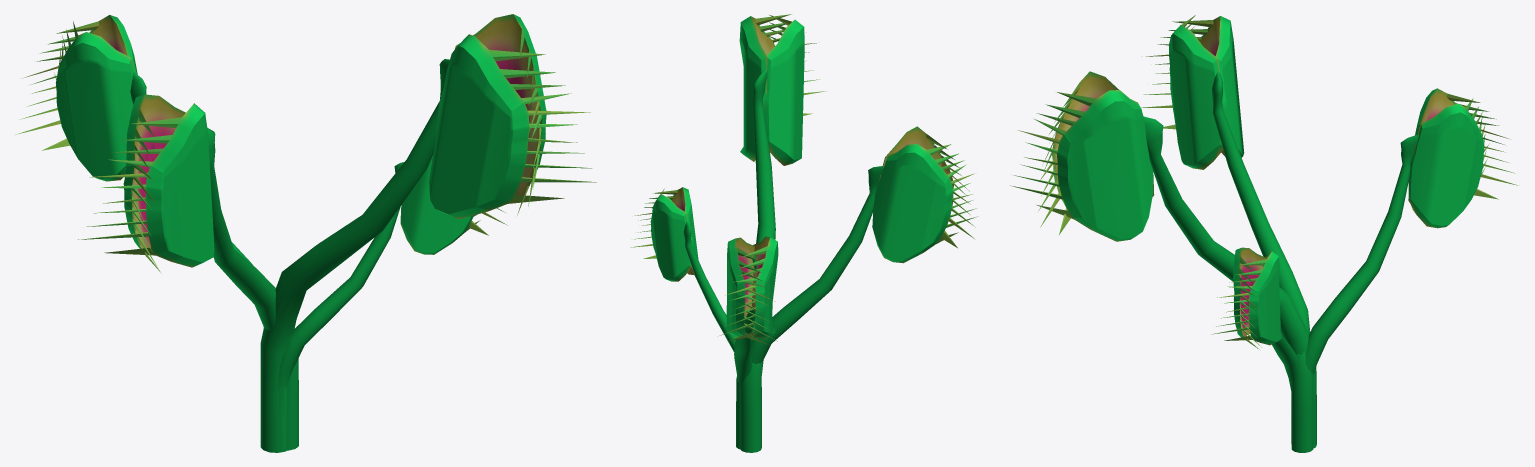
Rendered from herotrophic_tre.fbx.
3 views of the same model, side by side, from view 1: azimuth 30°, elevation 25°; view 2: azimuth 150°, elevation 25°; view 3: azimuth 270°, elevation 25° (orthographic). The views are drawn at different scales.
Visible parts, largest first — view 1: pCube7, pCube10, pCylinder4, pCube8, pCylinder5, pCube6, pCube9, pCylinder6, pCube12, pCube13; view 2: pCube9, pCube7, pCylinder4, pCylinder5, pCube6, pCube8, pCube13, pCube11, pCube10, pCylinder6, pCube12, pCylinder3; view 3: pCube6, pCube13, pCylinder5, pCube10, pCylinder4, pCylinder3, pCube11, pCube9, pCube7, pCube12, pCube8, pCylinder6.
Part boxes in pixels (x1=…): pCube7: x1=429, y1=34, x2=596, y2=219; pCube10: x1=78, y1=103, x2=214, y2=267; pCylinder4: x1=260, y1=59, x2=449, y2=452; pCube8: x1=54, y1=21, x2=134, y2=181; pCylinder5: x1=207, y1=128, x2=298, y2=450; pCube6: x1=455, y1=14, x2=546, y2=215; pCube9: x1=123, y1=94, x2=185, y2=272; pCylinder6: x1=278, y1=162, x2=404, y2=451; pCube12: x1=400, y1=155, x2=480, y2=254; pCube13: x1=15, y1=15, x2=137, y2=150; pCube9: x1=872, y1=144, x2=978, y2=263; pCube7: x1=763, y1=15, x2=804, y2=165; pCylinder4: x1=740, y1=70, x2=775, y2=452; pCylinder5: x1=736, y1=166, x2=883, y2=449; pCube6: x1=739, y1=14, x2=826, y2=161; pCube8: x1=719, y1=236, x2=778, y2=341; pCube13: x1=726, y1=237, x2=777, y2=344; pCube11: x1=650, y1=188, x2=691, y2=281; pCube10: x1=877, y1=126, x2=975, y2=247; pCylinder6: x1=683, y1=221, x2=735, y2=351; pCube12: x1=630, y1=187, x2=698, y2=276; pCylinder3: x1=734, y1=255, x2=756, y2=386; pCube6: x1=1010, y1=90, x2=1153, y2=241; pCube13: x1=1408, y1=98, x2=1489, y2=228; pCylinder5: x1=1212, y1=72, x2=1313, y2=452; pCube10: x1=1169, y1=15, x2=1223, y2=169; pCylinder4: x1=1143, y1=116, x2=1316, y2=448; pCylinder3: x1=1305, y1=135, x2=1418, y2=375; pCube11: x1=1210, y1=250, x2=1281, y2=345; pCube9: x1=1141, y1=16, x2=1244, y2=157; pCube7: x1=1038, y1=71, x2=1154, y2=234; pCube12: x1=1233, y1=247, x2=1266, y2=349; pCube8: x1=1408, y1=88, x2=1517, y2=215; pCylinder6: x1=1263, y1=266, x2=1297, y2=443.
Bounding box in the file's own units: 232 × 239 × 276.
